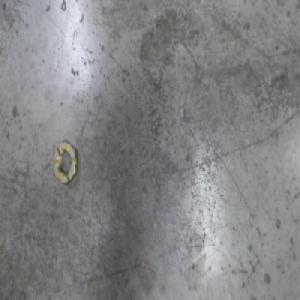Nut: (51, 139, 79, 187)
